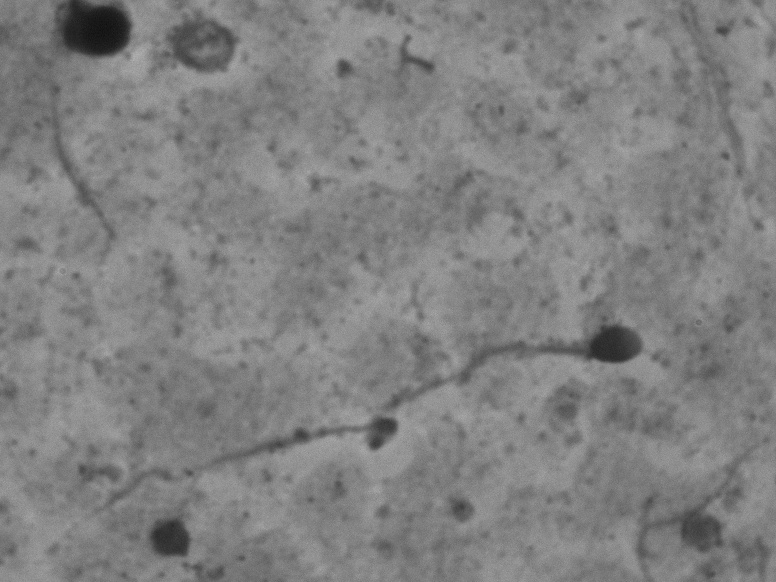Normal: (54, 311, 658, 550)
